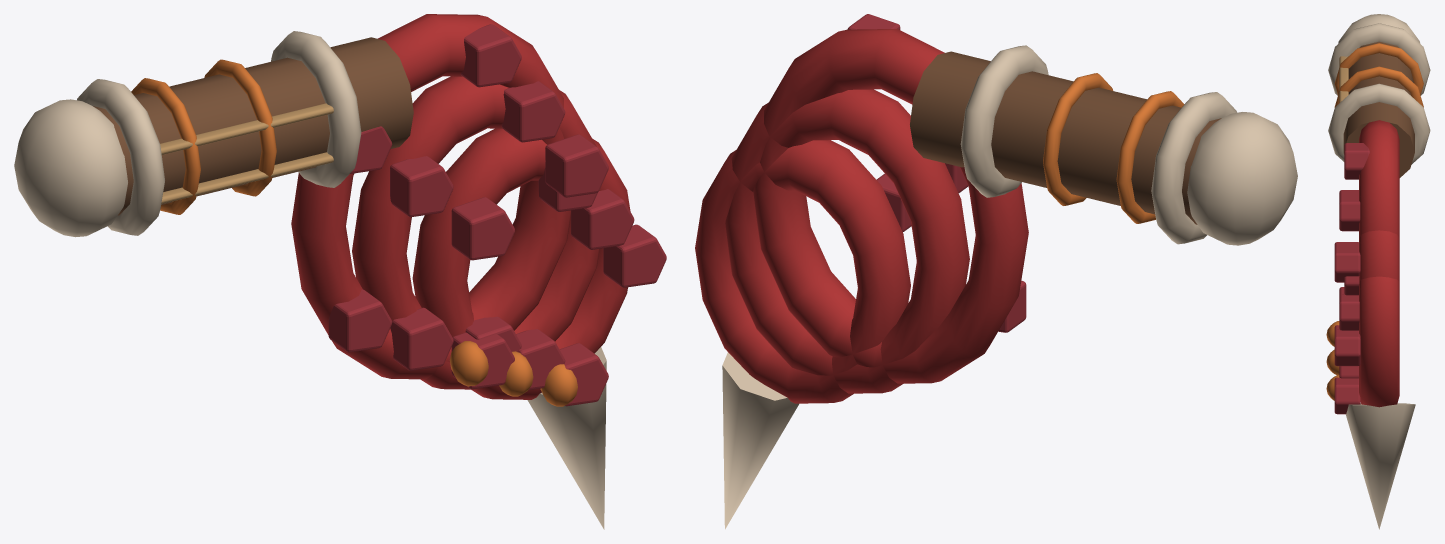
Rendered from wpn_dragontail.glb.
3 renders of one model, left to right at view 1: azimuth 30°, elevation 25°; view 2: azimuth 150°, elevation 25°; view 3: azimuth 270°, elevation 25°, orthographic. The views are drawn at different scales.
Visible parts, largest first — view 1: object 3, torus.001, torus, torus.006, torus.005, box.001, box, sphere.001, sphere.003; view 2: object 3, torus.001, torus, torus.006, torus.005; view 3: object 3, torus.001, torus, torus.005, torus.006, box.001, sphere.001, sphere.003.
Part boxes in pixels (bbox=[...]): object 3: bbox=[14, 14, 666, 529]; torus.001: bbox=[271, 31, 361, 187]; torus: bbox=[77, 79, 164, 235]; torus.006: bbox=[204, 59, 276, 196]; torus.005: bbox=[131, 78, 200, 214]; box.001: bbox=[160, 103, 333, 154]; box: bbox=[161, 152, 333, 203]; sphere.001: bbox=[449, 341, 488, 386]; sphere.003: bbox=[540, 364, 577, 406]; object 3: bbox=[695, 14, 1297, 529]; torus.001: bbox=[960, 45, 1048, 197]; torus: bbox=[1151, 92, 1236, 244]; torus.006: bbox=[1043, 73, 1113, 205]; torus.005: bbox=[1116, 91, 1184, 223]; object 3: bbox=[1326, 14, 1420, 529]; torus.001: bbox=[1328, 83, 1430, 164]; torus: bbox=[1328, 23, 1430, 95]; torus.005: bbox=[1334, 43, 1423, 94]; torus.006: bbox=[1334, 66, 1423, 107]; box.001: bbox=[1339, 56, 1348, 102]; sphere.001: bbox=[1326, 321, 1339, 346]; sphere.003: bbox=[1326, 375, 1339, 400].
Bounding box in the file's own units: 0.681 × 0.6049 × 0.16.
